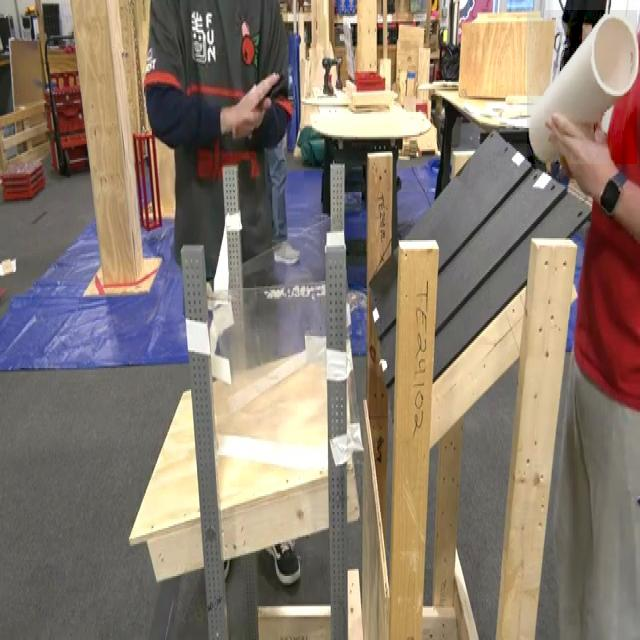Coral: (527, 10, 637, 164)
